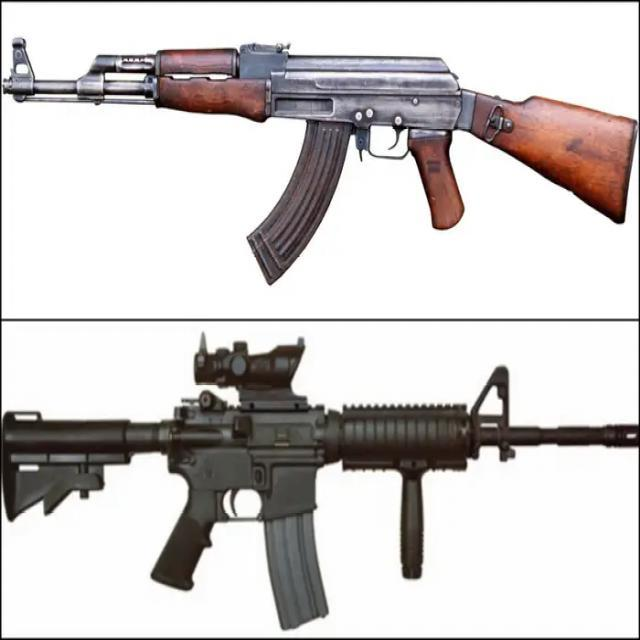weapon: (1, 332, 640, 632), (3, 36, 637, 288)
